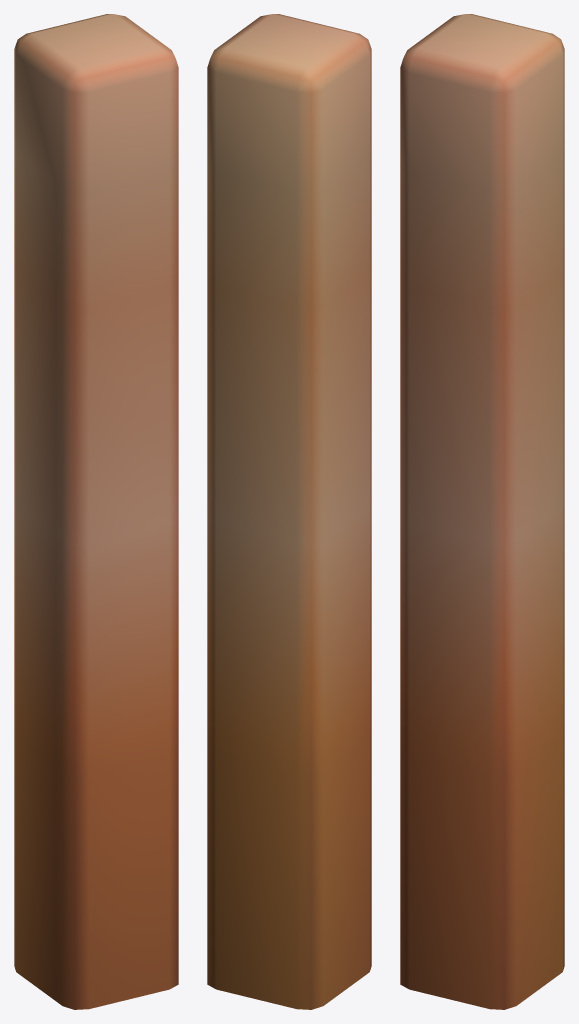
Rendered from Paal_M.fbx.
The picture shows the model from 3 angles, left to right: view 1: azimuth 30°, elevation 25°; view 2: azimuth 150°, elevation 25°; view 3: azimuth 330°, elevation 25°; orthographic projection.
Parts seen in each view (by area): view 1: Cube.015; view 2: Cube.015; view 3: Cube.015.
Part boxes in pixels (x1,y1,x2,y2): Cube.015: [14, 14, 178, 1009]; Cube.015: [207, 14, 371, 1009]; Cube.015: [400, 14, 564, 1009].
Bounding box in the file's own units: 41.18 × 322 × 41.18.
